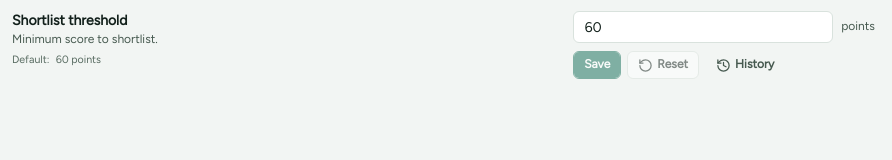
Scenario: SettingRow › shows a validation error and does not save
Replace the text in the field labelled "Shortlist threshold" with "150" at (703,27), box left=573, top=11, right=833, bottom=43
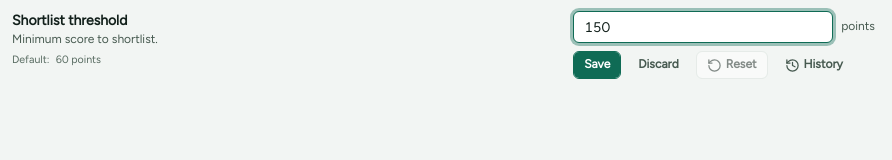
Click the button with aria-label "Save Shortlist threshold".
click(597, 65)  # box left=573, top=51, right=621, bottom=79
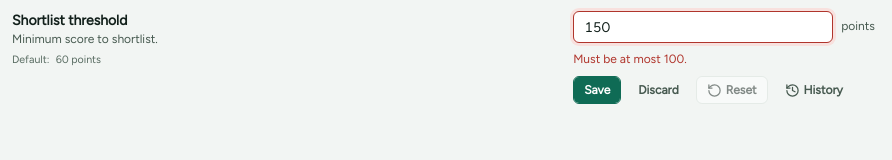
Expected: the message reads "Must be at most 100.", left=573, top=52, right=687, bottom=66
